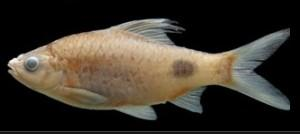Black Spotted Barb: (7, 16, 292, 123)
